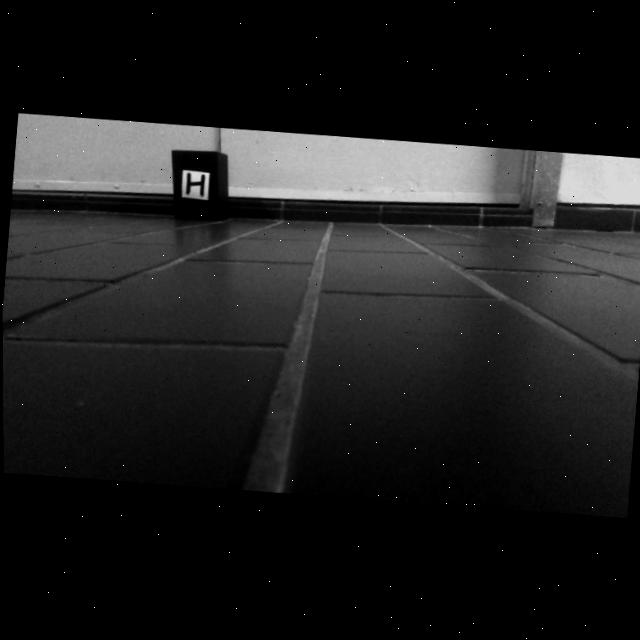H: (186, 174, 204, 197)
